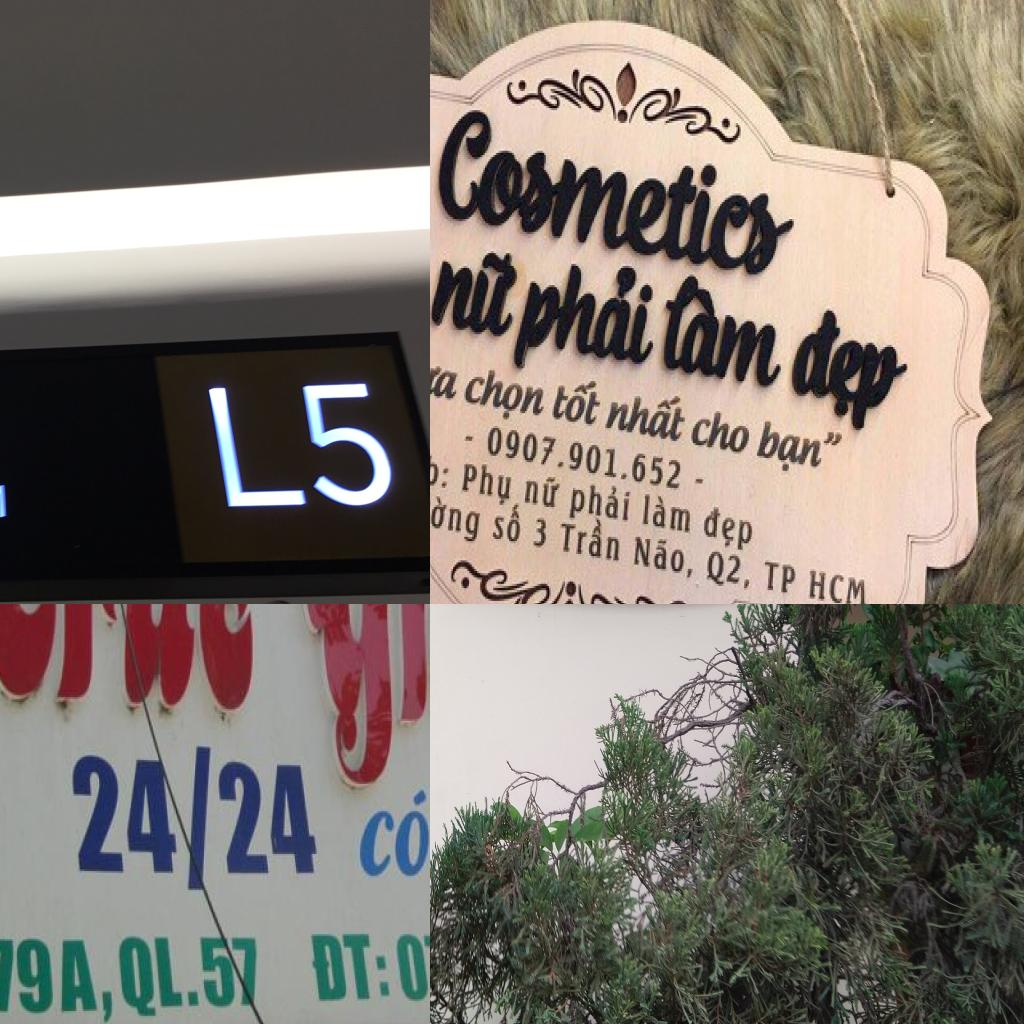text: (430, 103, 803, 291), (68, 741, 320, 895), (0, 604, 257, 722), (303, 604, 430, 801), (0, 934, 260, 1024), (508, 245, 664, 381), (789, 298, 917, 447), (656, 272, 792, 398), (482, 422, 696, 496), (430, 234, 528, 345), (356, 787, 430, 882), (458, 360, 554, 432), (308, 928, 394, 1008), (751, 413, 848, 482), (600, 392, 690, 447), (565, 477, 635, 531), (630, 532, 698, 584), (688, 409, 757, 460), (430, 487, 486, 549), (701, 501, 760, 558), (556, 520, 624, 567), (548, 379, 606, 432), (458, 458, 515, 509), (642, 490, 694, 539), (430, 349, 467, 415), (701, 548, 754, 594), (760, 554, 802, 603), (520, 471, 564, 513), (491, 500, 525, 548), (430, 445, 454, 496), (530, 515, 552, 554)
